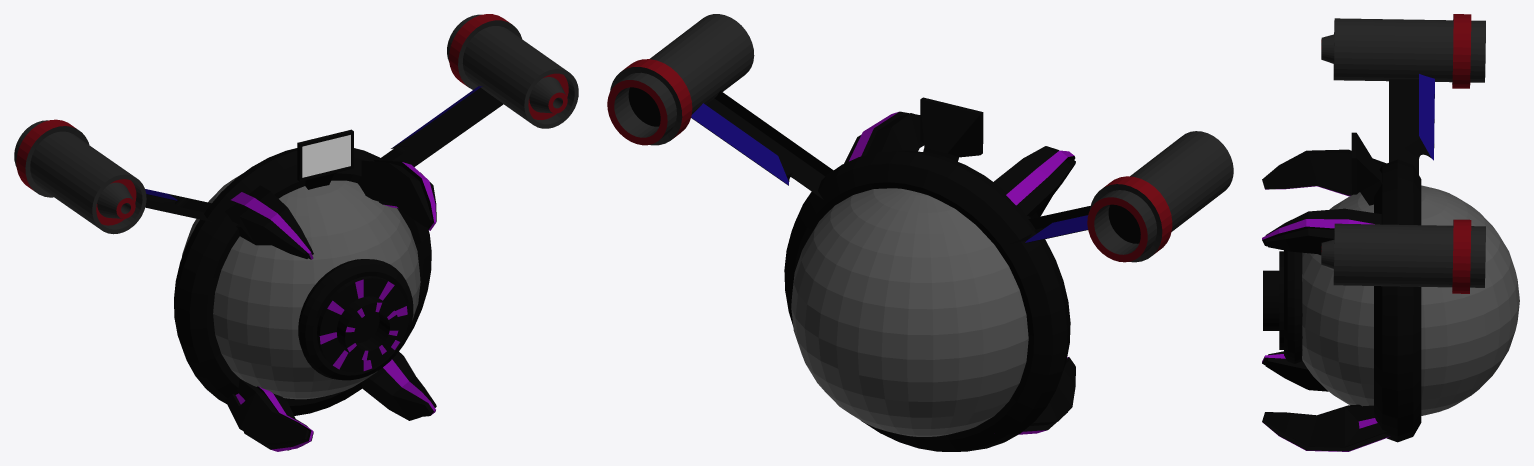
Rendered from drone.fbx.
3 renders of one model, left to right at view 1: azimuth 30°, elevation 25°; view 2: azimuth 150°, elevation 25°; view 3: azimuth 270°, elevation 25°, orthographic. The views are drawn at different scales.
Parts seen in each view (by area): view 1: Sphere; view 2: Sphere; view 3: Sphere.
Part boxes in pixels (<box>): Sphere: <box>14,14,578,451</box>; Sphere: <box>607,14,1233,451</box>; Sphere: <box>1262,14,1519,451</box>.
Bounding box in the file's own units: 477 × 291 × 220.
